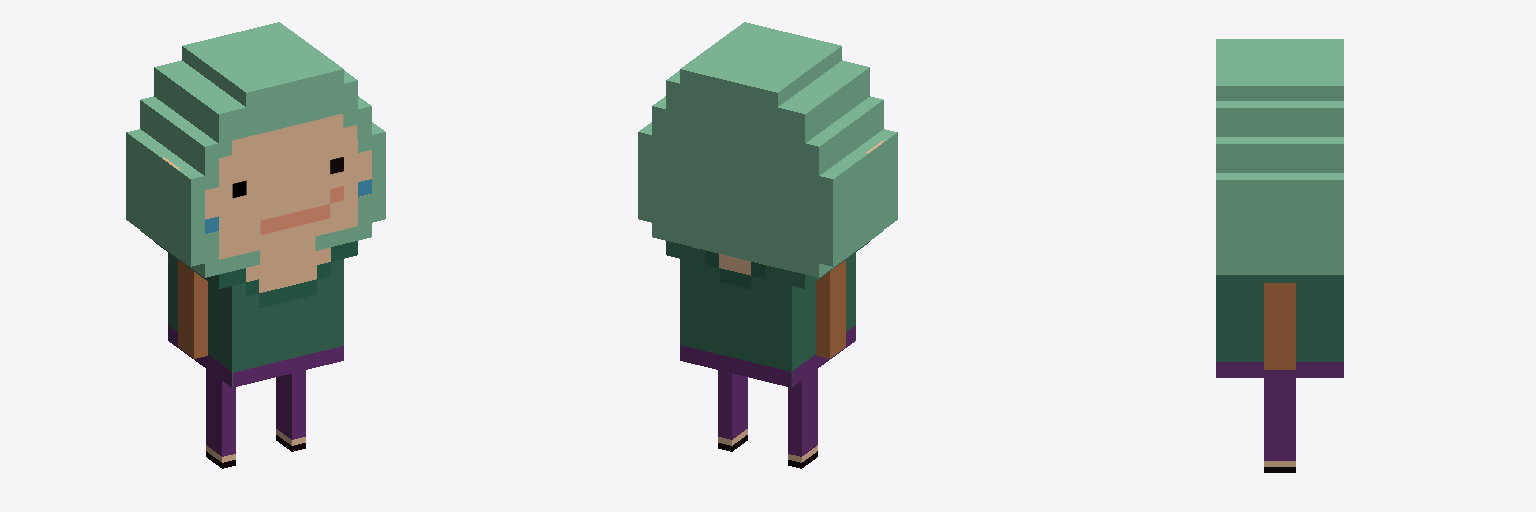
3 renders of one model, left to right at view 1: azimuth 30°, elevation 25°; view 2: azimuth 150°, elevation 25°; view 3: azimuth 270°, elevation 25°, orthographic.
Visible parts, largest first — view 1: head_Plane, body_Plane.001, leg.r_Plane.002, arm.r_Plane.007, leg.l_Plane.005; view 2: head_Plane, body_Plane.001, leg.r_Plane.002, arm.r_Plane.007, leg.l_Plane.005; view 3: head_Plane, body_Plane.001, leg.l_Plane.005, arm.l_Plane.006.
Part boxes in pixels (left/top/right/bottom): head_Plane: left=126, top=22, right=385, bottom=277; body_Plane.001: left=154, top=241, right=357, bottom=387; leg.r_Plane.002: left=206, top=369, right=235, bottom=468; arm.r_Plane.007: left=178, top=260, right=207, bottom=358; leg.l_Plane.005: left=276, top=370, right=305, bottom=451; head_Plane: left=638, top=22, right=897, bottom=277; body_Plane.001: left=666, top=241, right=869, bottom=387; leg.r_Plane.002: left=788, top=369, right=817, bottom=468; arm.r_Plane.007: left=816, top=260, right=845, bottom=358; leg.l_Plane.005: left=718, top=370, right=747, bottom=451; head_Plane: left=1216, top=39, right=1343, bottom=274; body_Plane.001: left=1216, top=275, right=1343, bottom=377; leg.l_Plane.005: left=1264, top=378, right=1295, bottom=472; arm.l_Plane.006: left=1264, top=283, right=1295, bottom=369.
Size of the model in its own units: 0.0835 by 0.1611 by 0.0477.
5 materials, 3 textured.